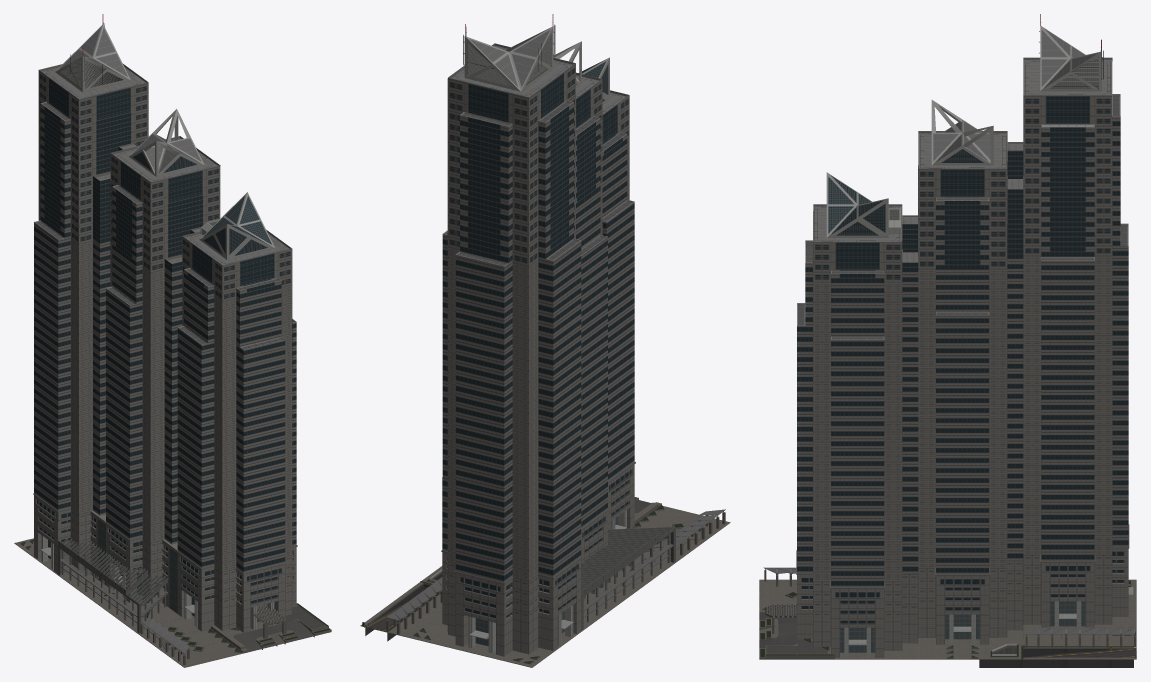
3 views of the same model, side by side, from view 1: azimuth 30°, elevation 25°; view 2: azimuth 150°, elevation 25°; view 3: azimuth 270°, elevation 25° (orthographic). The views are drawn at different scales.
Parts seen in each view (by area): view 1: shinjuku; view 2: shinjuku; view 3: shinjuku.
Boxes of the visible parts, x1,y1,x2,y2 form: shinjuku: (14,14,331,667); shinjuku: (360,14,730,667); shinjuku: (759,14,1136,667).
Size of the model in its own units: 6464 by 22073 by 12800.
1 material, 1 textured.
